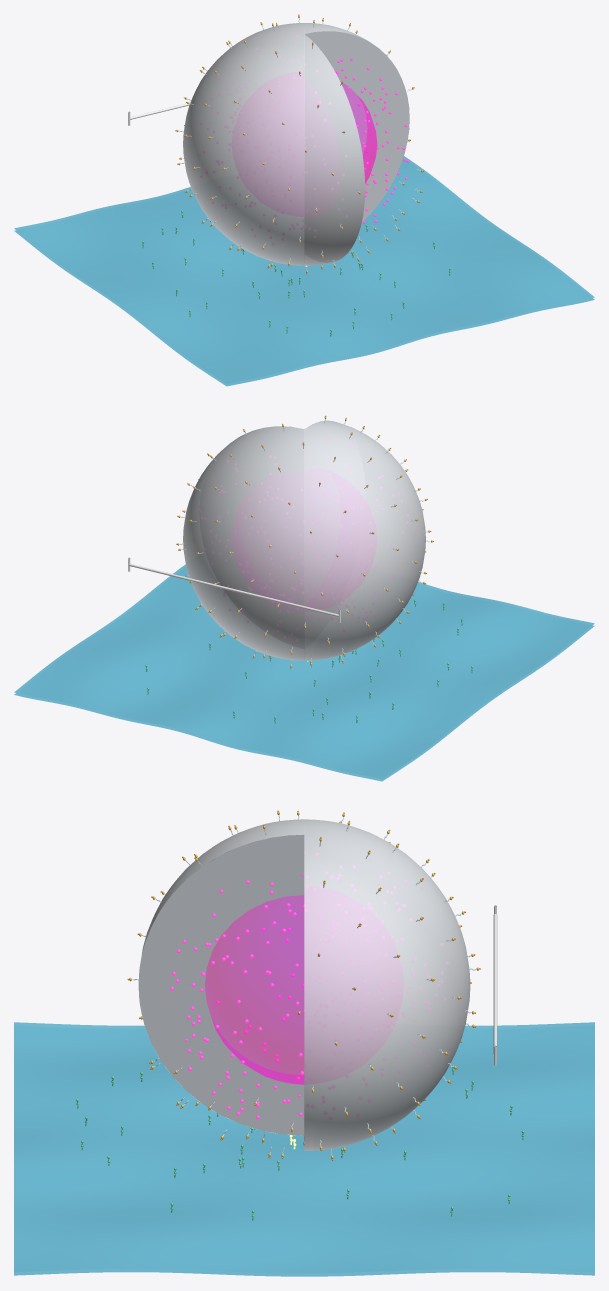
File: nanoparticle_her2_complex.glb
3 views of the same model, one above another, from view 1: azimuth 30°, elevation 25°; view 2: azimuth 150°, elevation 25°; view 3: azimuth 270°, elevation 25° (orthographic). The views are drawn at different scales.
Parts seen in each view (by area): view 1: Cancer_Cell_Membrane, Polystyrene_Core_Cutaway, Polystyrene_Cutaway_Walls, Cy5_Internal_Luminescence, Cy5_Fluorophore_Matrix, HER2_Overexpressed_Receptors; view 2: Cancer_Cell_Membrane, Polystyrene_Core_Cutaway, Polystyrene_Cutaway_Walls, Nanoscale_400nm_Scale_Bar, Anti_HER2_Nanobodies; view 3: Cancer_Cell_Membrane, Polystyrene_Core_Cutaway, Polystyrene_Cutaway_Walls, Cy5_Internal_Luminescence, Cy5_Fluorophore_Matrix, Nanoscale_400nm_Scale_Bar, Anti_HER2_Nanobodies, PEG_Linkers, HER2_Overexpressed_Receptors.
Boxes of the visible parts, left/top/right/bottom form: Cancer_Cell_Membrane: left=14, top=156, right=594, bottom=386; Polystyrene_Core_Cutaway: left=183, top=23, right=409, bottom=265; Polystyrene_Cutaway_Walls: left=304, top=31, right=409, bottom=262; Cy5_Internal_Luminescence: left=340, top=81, right=377, bottom=183; Cy5_Fluorophore_Matrix: left=206, top=36, right=409, bottom=243; HER2_Overexpressed_Receptors: left=142, top=210, right=450, bottom=336; Cancer_Cell_Membrane: left=14, top=564, right=594, bottom=781; Polystyrene_Core_Cutaway: left=183, top=420, right=425, bottom=660; Polystyrene_Cutaway_Walls: left=200, top=421, right=363, bottom=647; Nanoscale_400nm_Scale_Bar: left=128, top=557, right=340, bottom=622; Anti_HER2_Nanobodies: left=177, top=416, right=432, bottom=667; Cancer_Cell_Membrane: left=14, top=1022, right=594, bottom=1276; Polystyrene_Core_Cutaway: left=138, top=819, right=470, bottom=1150; Polystyrene_Cutaway_Walls: left=138, top=835, right=304, bottom=1135; Cy5_Internal_Luminescence: left=205, top=895, right=304, bottom=1084; Cy5_Fluorophore_Matrix: left=170, top=854, right=448, bottom=1118; Nanoscale_400nm_Scale_Bar: left=493, top=905, right=497, bottom=1064; Anti_HER2_Nanobodies: left=129, top=811, right=478, bottom=1158; PEG_Linkers: left=132, top=815, right=476, bottom=1155; HER2_Overexpressed_Receptors: left=76, top=1065, right=524, bottom=1220.
Bounding box in the file's own units: 700 × 435 × 700.
